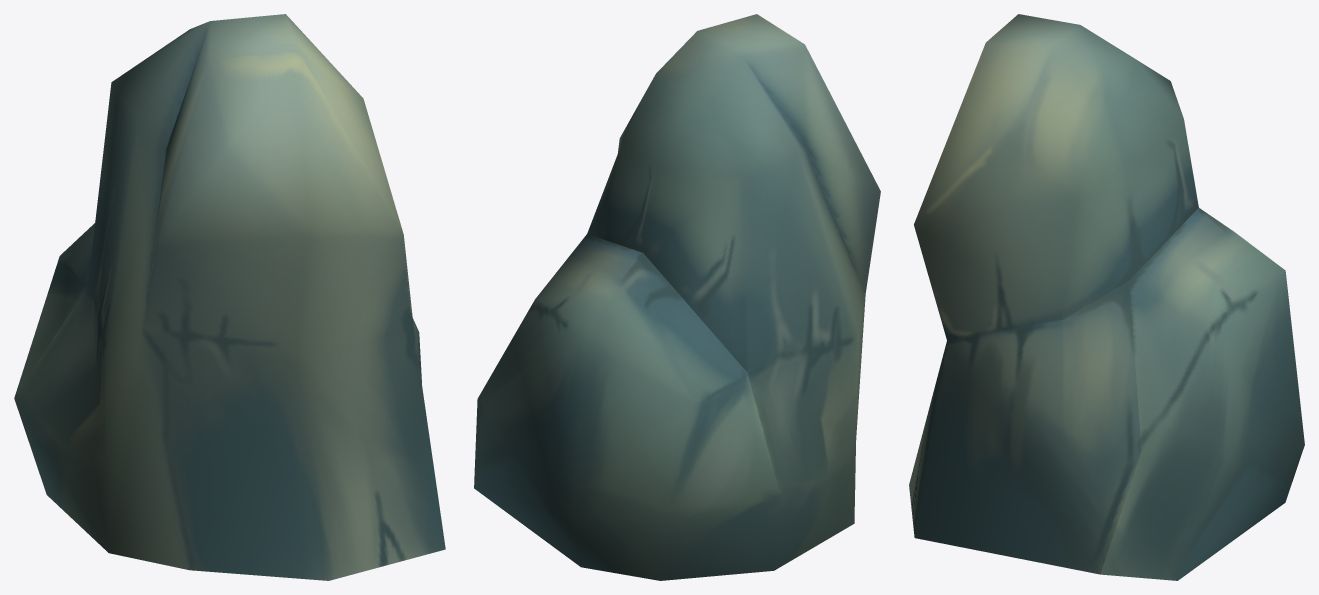
File: roca2.fbx
3 renders of one model, left to right at view 1: azimuth 30°, elevation 25°; view 2: azimuth 150°, elevation 25°; view 3: azimuth 270°, elevation 25°, orthographic. The views are drawn at different scales.
Parts seen in each view (by area): view 1: roca2; view 2: roca2; view 3: roca2.
Part boxes in pixels (box(x1,y1,x2,y2)): roca2: box(14, 14, 445, 580); roca2: box(474, 14, 880, 580); roca2: box(909, 14, 1304, 580).
Size of the model in its own units: 468 by 617 by 491.
